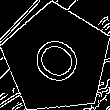O_SE: (24, 27, 89, 91)
